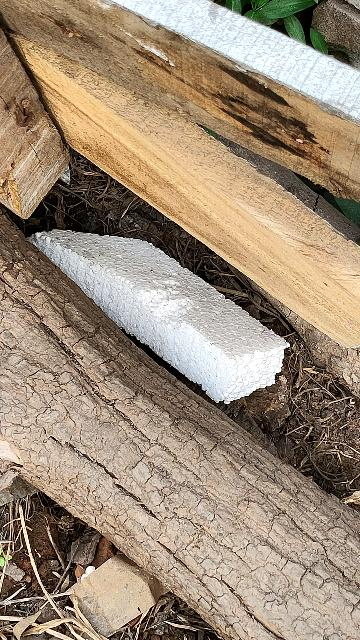cocksheet: (35, 173, 299, 421)
